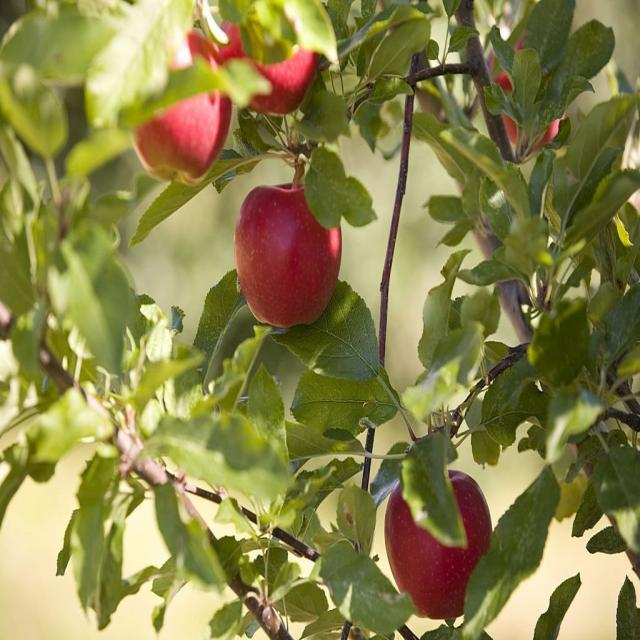Red Apple: (235, 172, 350, 329), (386, 474, 491, 612), (136, 28, 228, 175), (223, 1, 318, 109), (486, 37, 560, 149)
